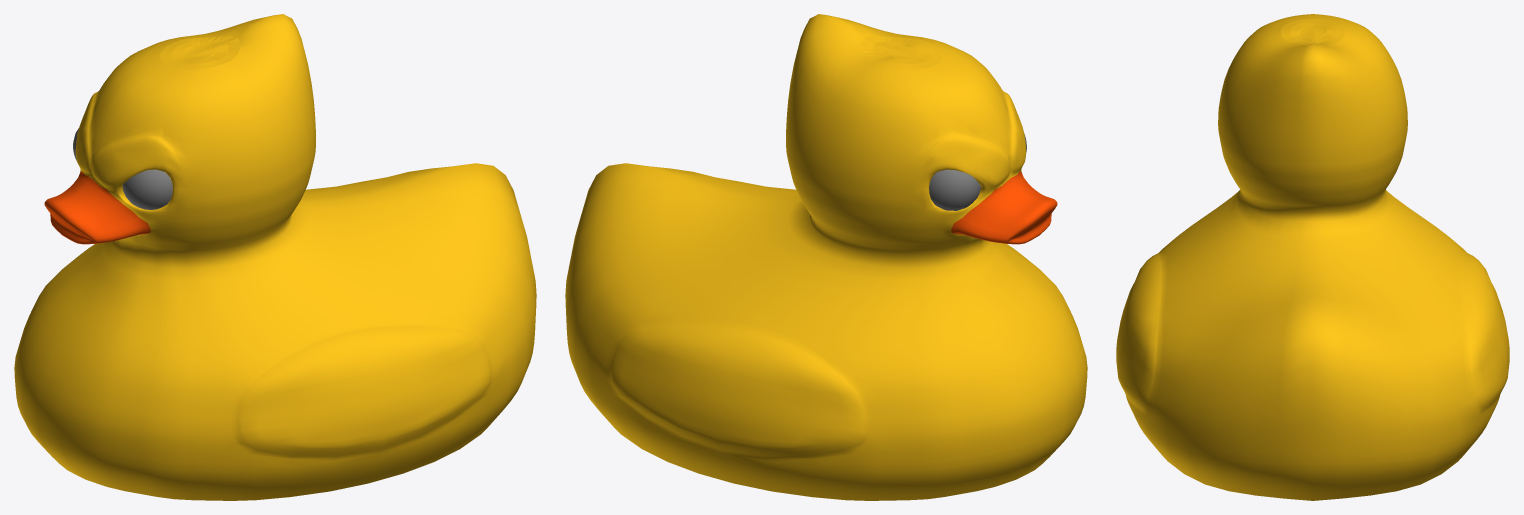
The model's file is duck.FBX.
3 views of the same model, side by side, from view 1: azimuth 30°, elevation 25°; view 2: azimuth 150°, elevation 25°; view 3: azimuth 270°, elevation 25° (orthographic). The views are drawn at different scales.
Visible parts, largest first — view 1: true duck, right eye; view 2: true duck, left eye; view 3: true duck.
Boxes of the visible parts, bbox=[...] form: true duck: bbox=[14, 14, 536, 500]; right eye: bbox=[122, 169, 172, 209]; true duck: bbox=[565, 14, 1087, 500]; left eye: bbox=[929, 169, 981, 210]; true duck: bbox=[1116, 14, 1509, 500].
Bounding box in the file's own units: 48.34 × 39.74 × 37.47.
